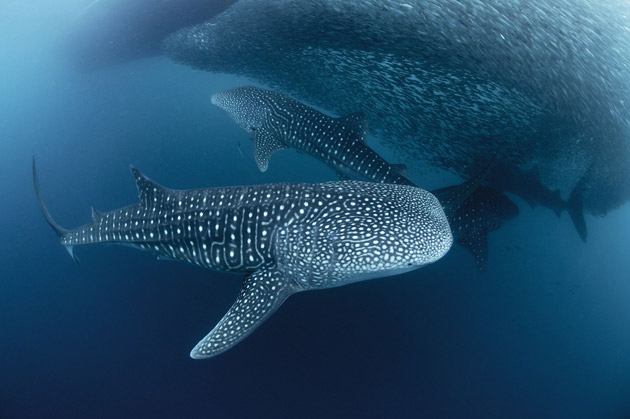Rhincodon_typusw: (27, 164, 478, 355), (197, 68, 494, 180)
